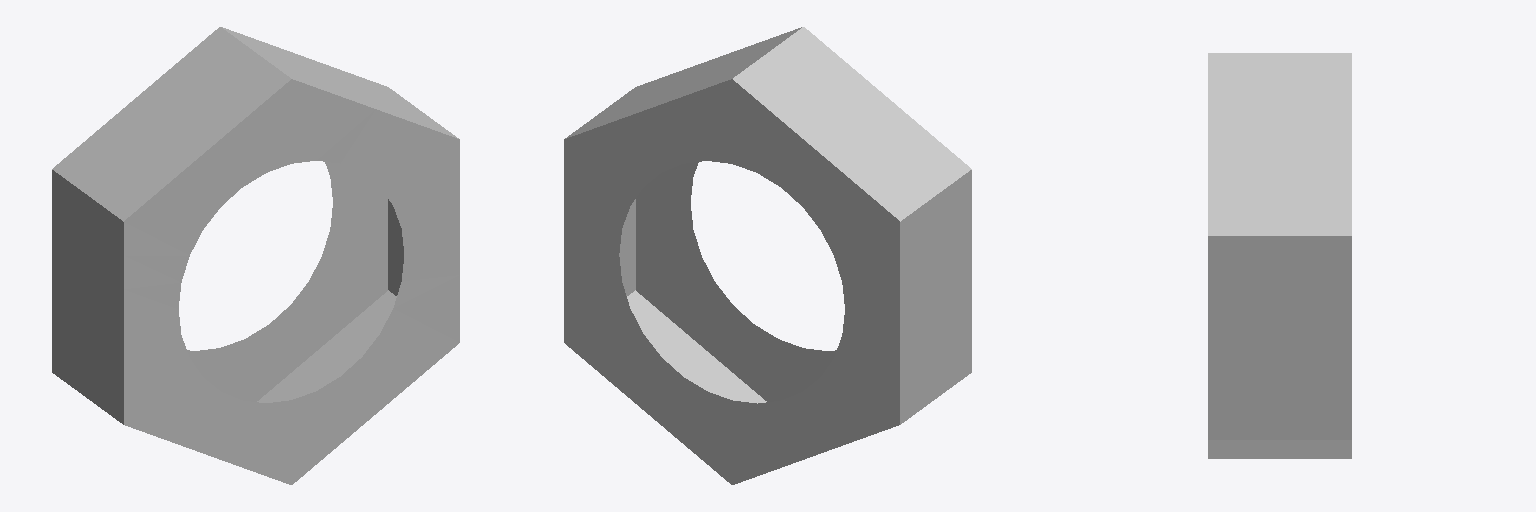
File: HEXAGONE1.obj
3 views of the same model, side by side, from view 1: azimuth 30°, elevation 25°; view 2: azimuth 150°, elevation 25°; view 3: azimuth 270°, elevation 25° (orthographic).
Parts seen in each view (by area): view 1: HEXAGONE1; view 2: HEXAGONE1; view 3: HEXAGONE1.
Boxes of the visible parts, x1,y1,x2,y2 form: HEXAGONE1: [52, 27, 459, 484]; HEXAGONE1: [564, 27, 971, 484]; HEXAGONE1: [1208, 53, 1351, 458].
Bounding box in the file's own units: 4.74 × 5.47 × 1.75.